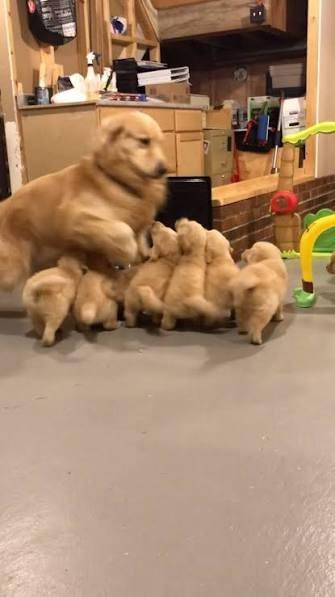adult_dog: (0, 109, 172, 310)
puppy-dog: (223, 241, 290, 346), (116, 226, 177, 331), (178, 230, 239, 331), (149, 216, 203, 330), (23, 255, 85, 347), (76, 242, 126, 333)
